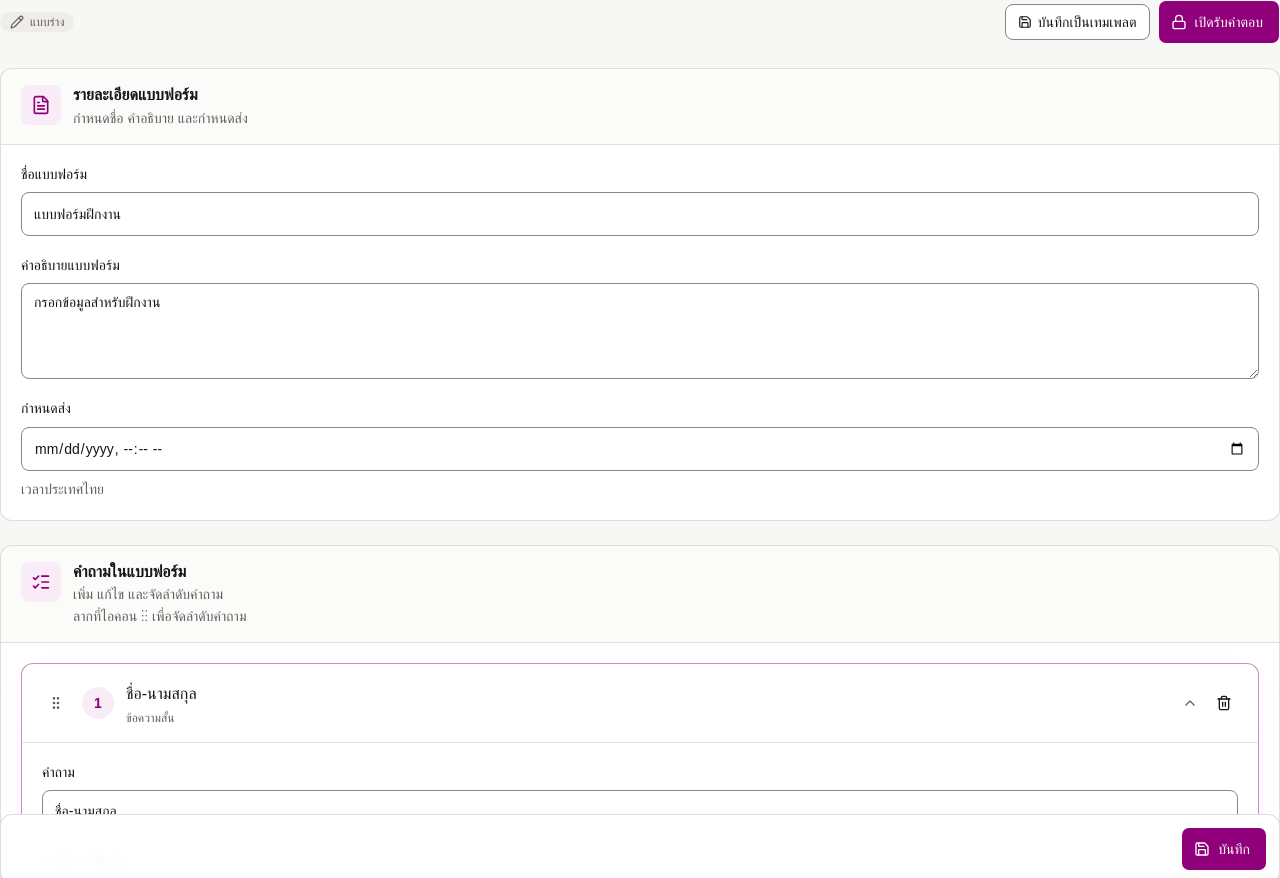
Test: FormBuilder draft editing › prevents opening a preview that still contains unsaved changes
In the field labelled "ชื่อแบบฟอร์ม": [640, 214] box [21,192,1259,236], type " ฉบับแก้ไข"
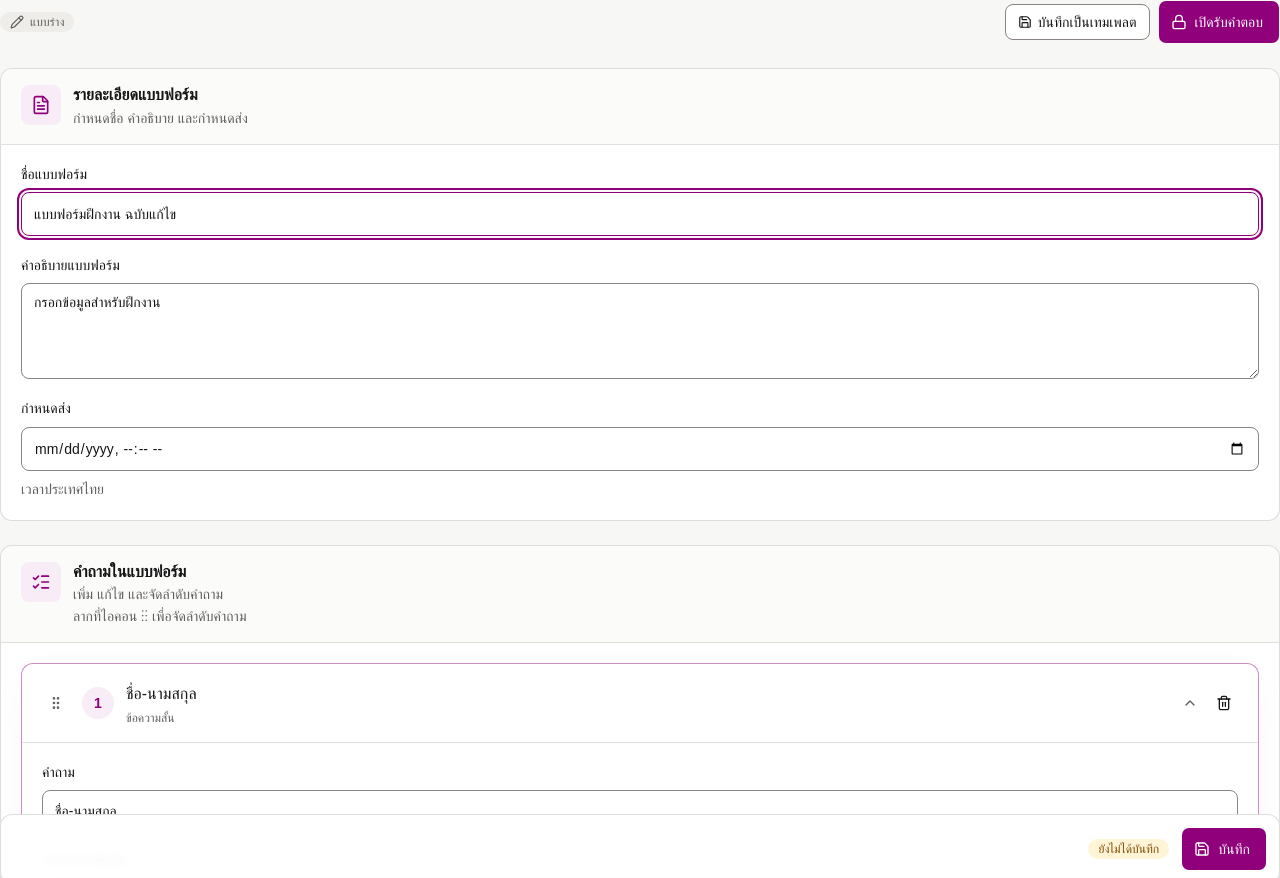
Click the button "เปิดรับคำตอบ": [1219, 22] box [1158,0,1279,44]
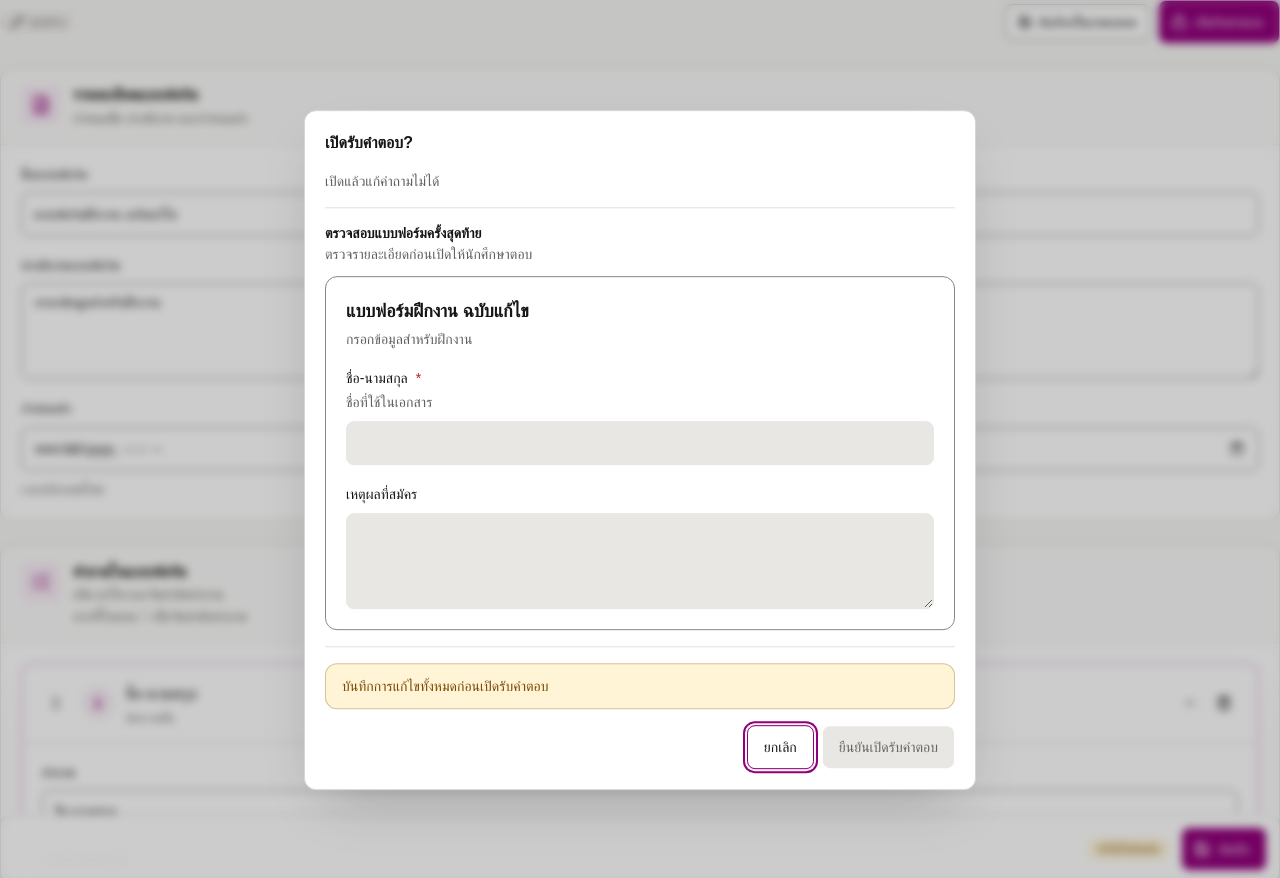
Check: the text "บันทึกการแก้ไขทั้งหมดก่อนเปิดรับคำตอบ" is shown, box [342,678,548,694]
Check: the button "ยืนยันเปิดรับคำตอบ" is disabled, box [822,725,955,769]
